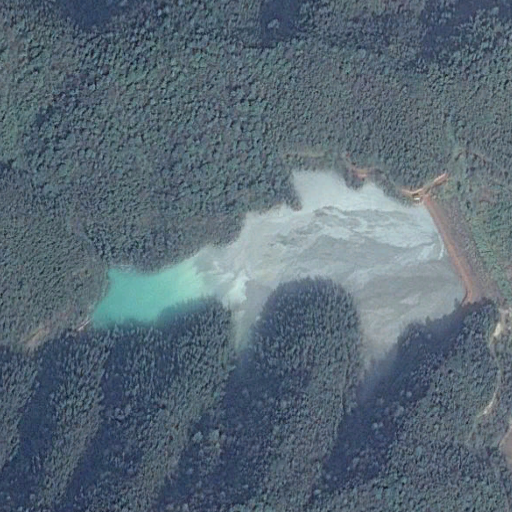tp: (82, 157, 496, 409)
